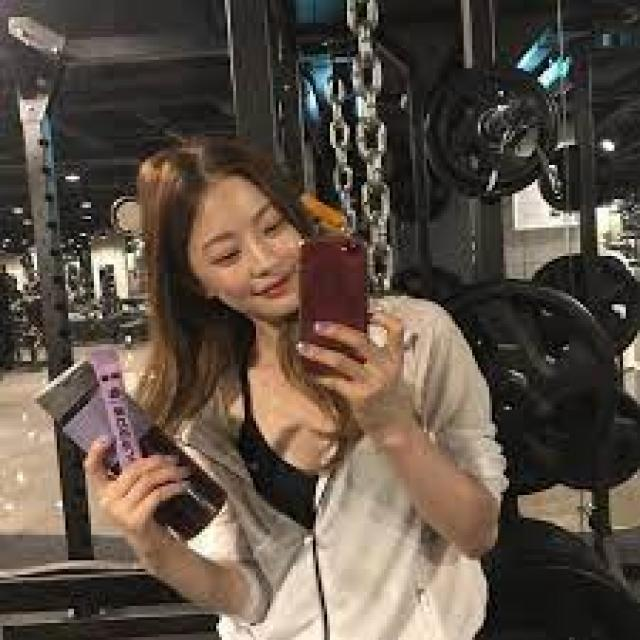Phone: (296, 236, 373, 378)
